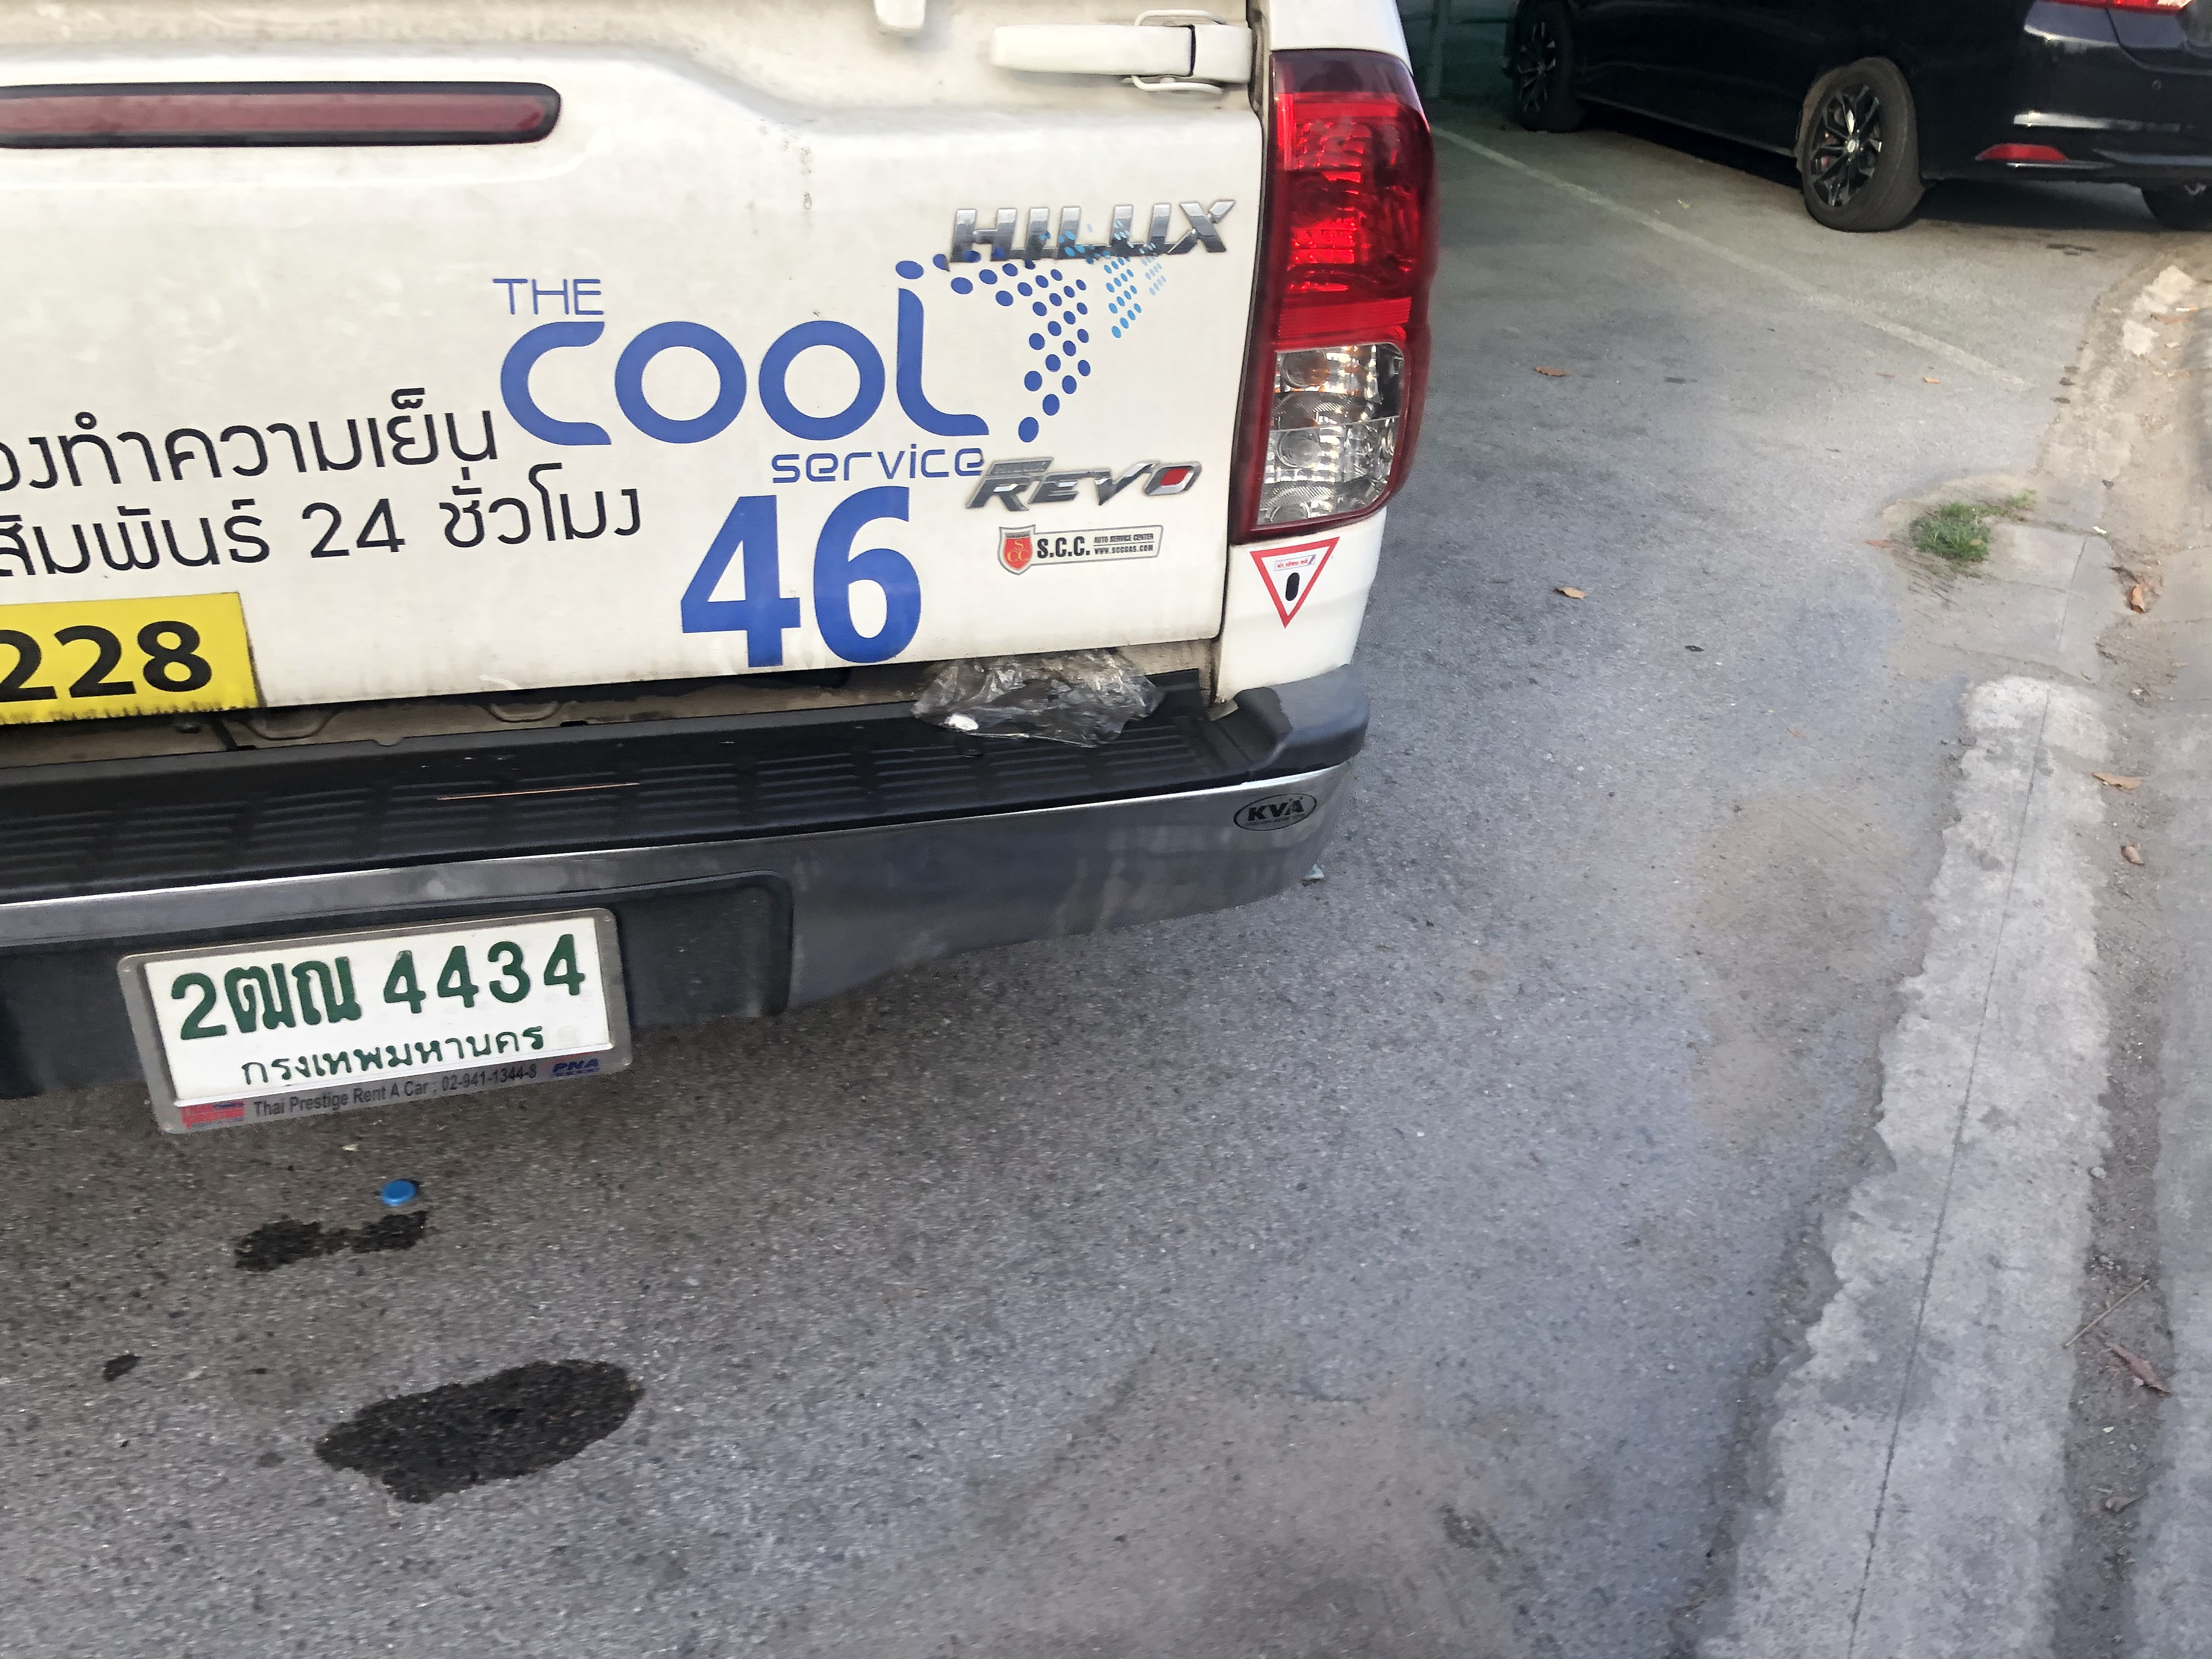in: (146, 918, 613, 1103)
out: (98, 890, 646, 1147)
